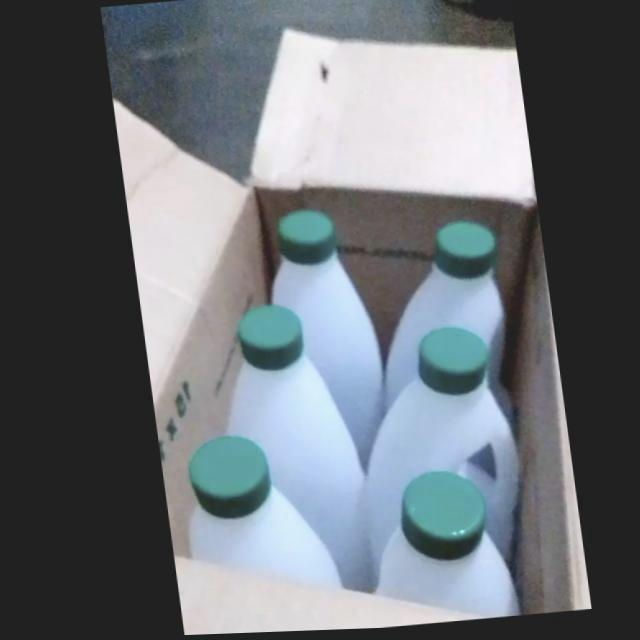plastic_bottle: (217, 305, 366, 597), (359, 330, 510, 565), (265, 212, 380, 477), (178, 436, 331, 594), (376, 226, 499, 417), (364, 474, 509, 621)
